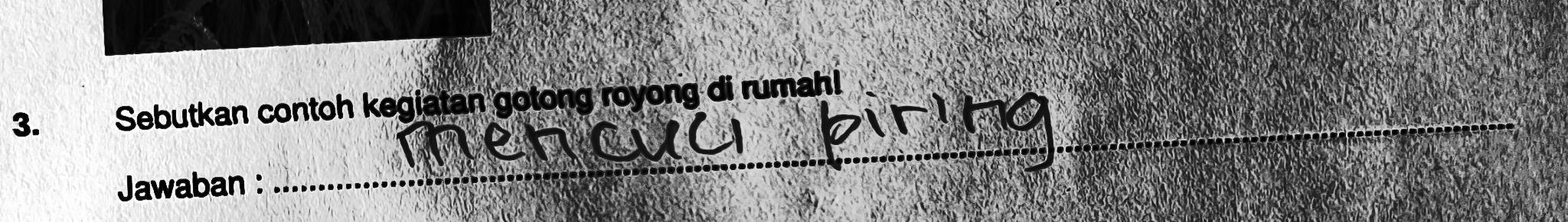jawaban: (814, 75, 1059, 181), (394, 106, 750, 172)
